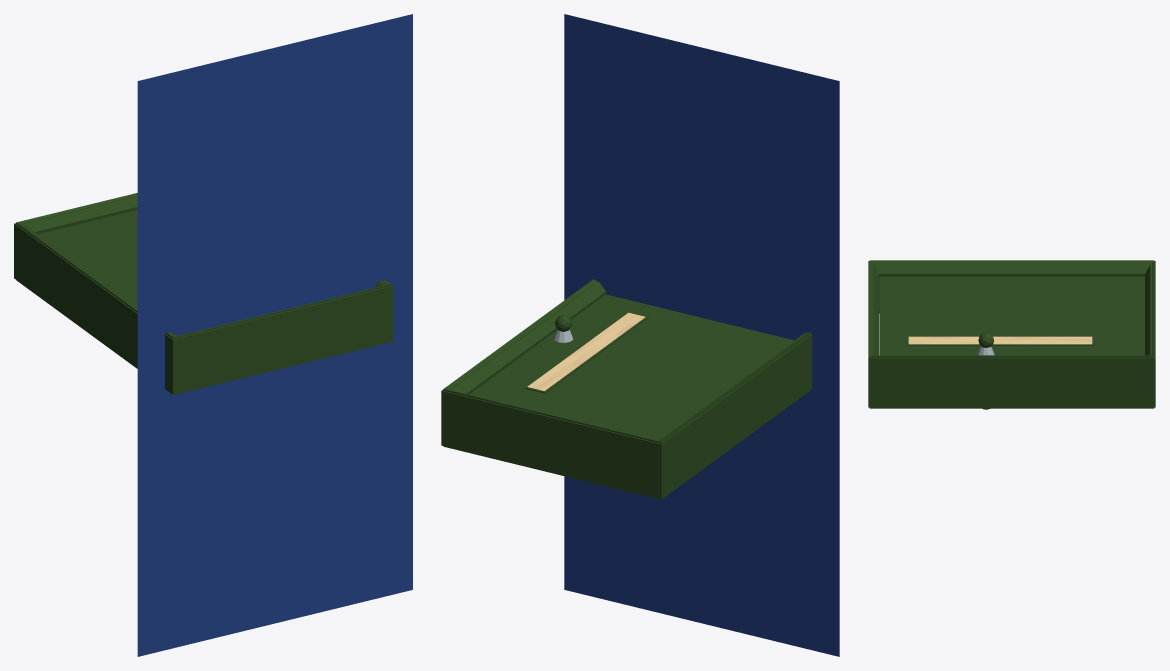
File: RealRoomDoor_LoungeRoom.fbx
The picture shows the model from 3 angles, left to right: view 1: azimuth 30°, elevation 25°; view 2: azimuth 150°, elevation 25°; view 3: azimuth 270°, elevation 25°; orthographic projection. The views are drawn at different scales.
Parts seen in each view (by area): view 1: Plane.299, menkuang.005, door.001; view 2: Plane.299, menkuang.005, door.001; view 3: menkuang.005, door.001.
Boxes of the visible parts, left/top/right/bottom form: Plane.299: left=137, top=14, right=412, bottom=656; menkuang.005: left=14, top=193, right=392, bottom=394; door.001: left=38, top=210, right=137, bottom=306; Plane.299: left=564, top=14, right=839, bottom=656; menkuang.005: left=441, top=279, right=812, bottom=499; door.001: left=469, top=294, right=794, bottom=440; menkuang.005: left=868, top=260, right=1155, bottom=408; door.001: left=879, top=276, right=1144, bottom=409.
Bounding box in the file's own units: 2 × 4 × 2.
